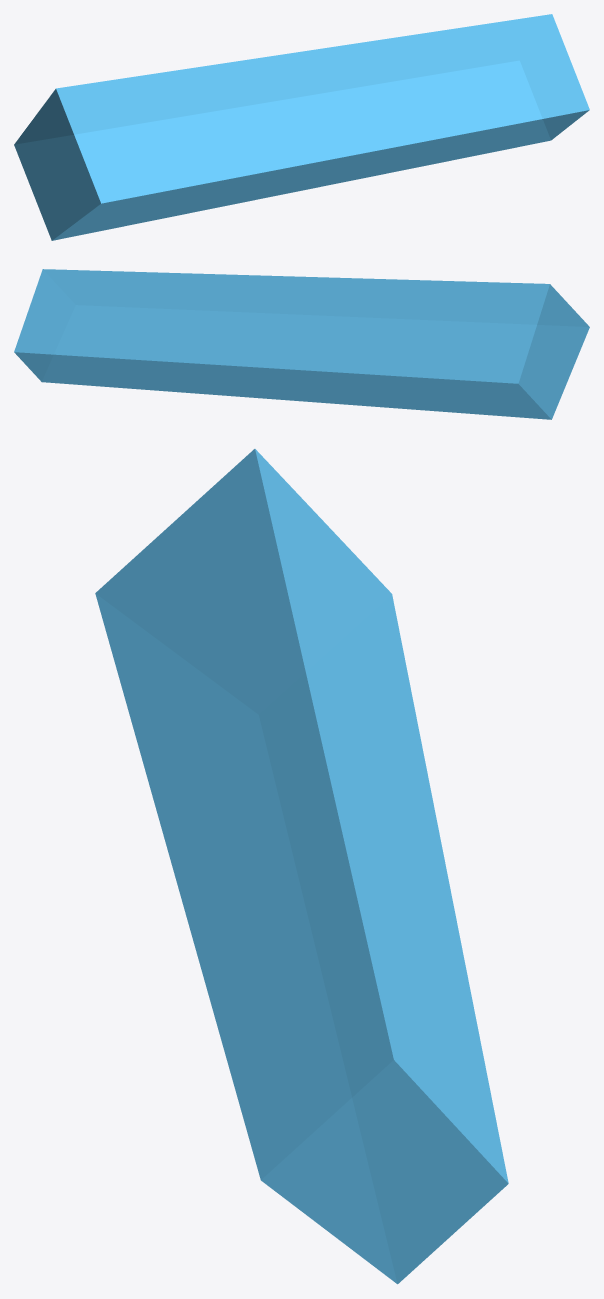
The model's file is Event_420604493_HErechit_27.fbx.
The picture shows the model from 3 angles, top to bottom: view 1: azimuth 30°, elevation 25°; view 2: azimuth 150°, elevation 25°; view 3: azimuth 270°, elevation 25°; orthographic projection. The views are drawn at different scales.
Visible parts, largest first — view 1: Model; view 2: Model; view 3: Model.
Boxes of the visible parts, box(x1,y1,x2,y2) form: Model: box(14, 14, 589, 240); Model: box(14, 269, 589, 419); Model: box(95, 449, 508, 1284).
Size of the model in its own units: 2.23 by 0.8404 by 0.8404.
